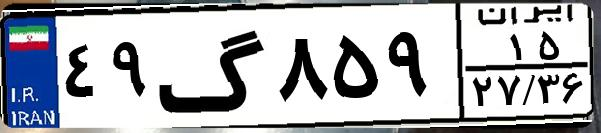1: (508, 27, 537, 80)
2: (470, 70, 495, 125)
3: (535, 70, 560, 125)
4: (57, 26, 110, 100)
5: (330, 28, 385, 110), (537, 27, 568, 80)
6: (560, 70, 590, 125)
7: (495, 70, 520, 125)
8: (270, 28, 330, 110)
9: (385, 28, 445, 110), (110, 28, 156, 98)
گ: (156, 12, 270, 120)
